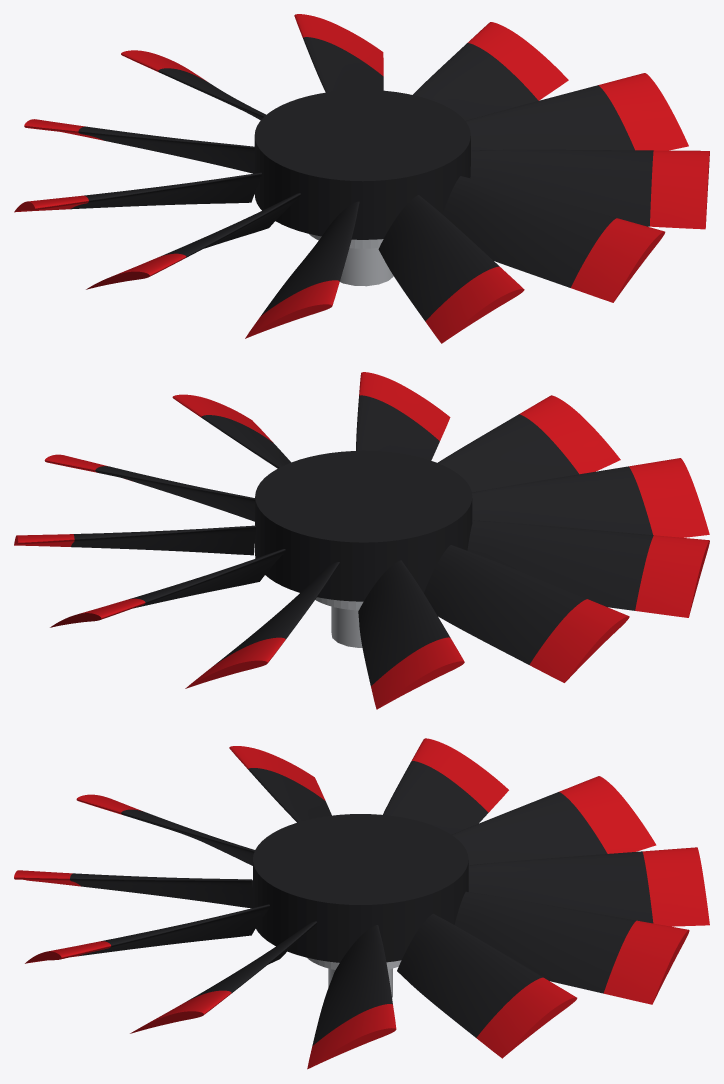
Rendered from x1_pusher_cw.glb.
3 views of the same model, one above another, from view 1: azimuth 30°, elevation 25°; view 2: azimuth 150°, elevation 25°; view 3: azimuth 270°, elevation 25° (orthographic).
Parts seen in each view (by area): view 1: x1_pusher_cw; view 2: x1_pusher_cw; view 3: x1_pusher_cw.
Boxes of the visible parts, x1,y1,x2,y2 form: x1_pusher_cw: [14, 14, 709, 343]; x1_pusher_cw: [14, 372, 709, 709]; x1_pusher_cw: [14, 738, 709, 1069].
Bounding box in the file's own units: 0.641 × 0.14 × 0.6453.
